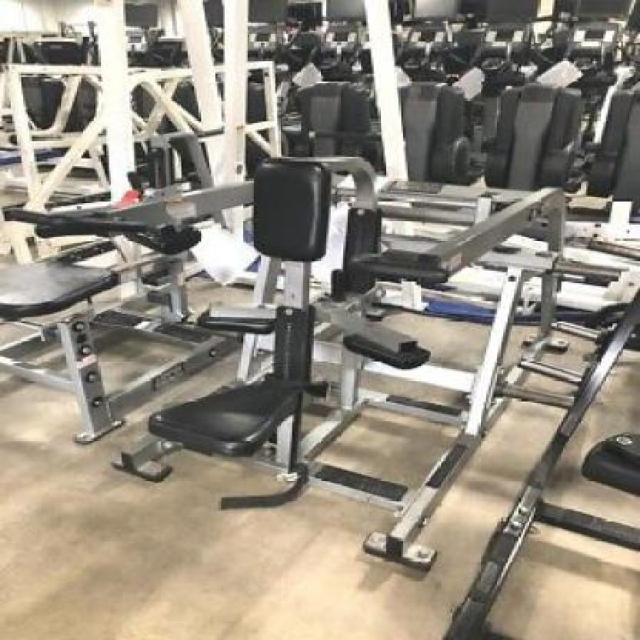seated dip machine: (31, 154, 564, 586)
